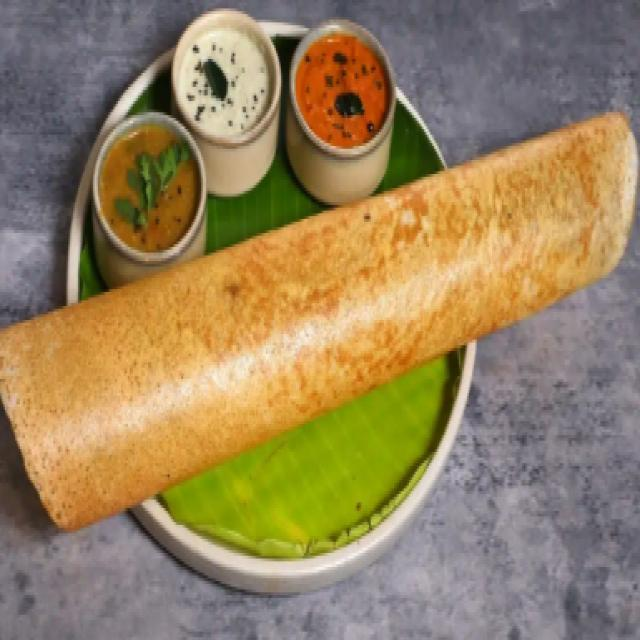dosa: (5, 118, 630, 536)
